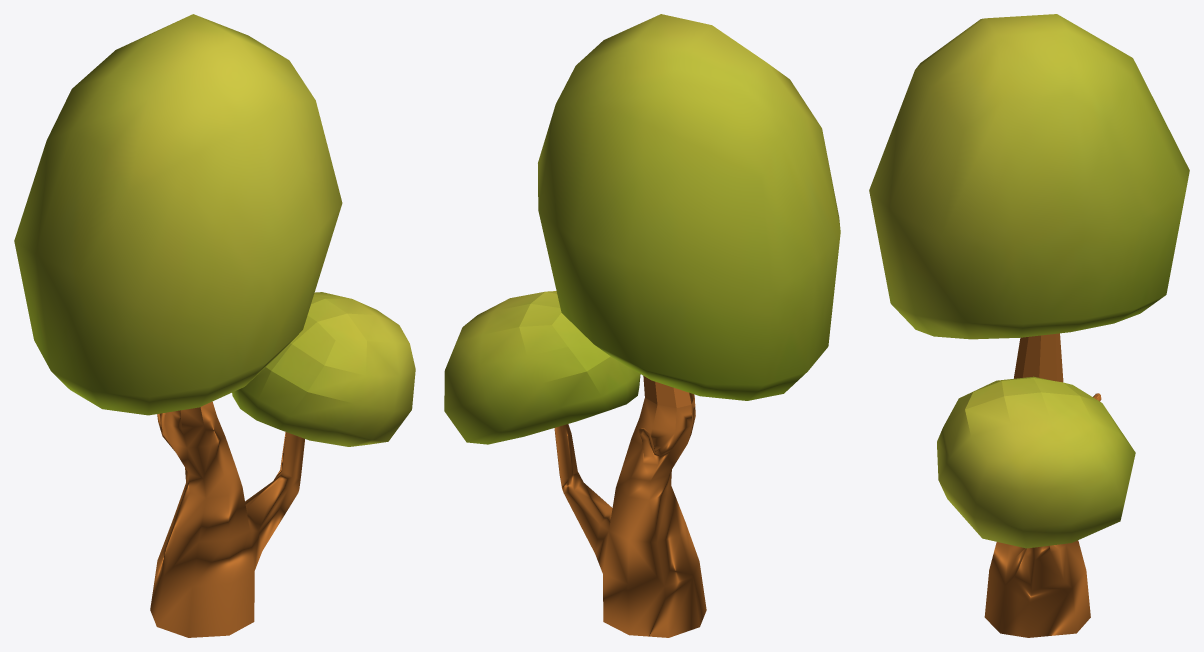
Rendered from SM_Tree_10.fbx.
3 views of the same model, side by side, from view 1: azimuth 30°, elevation 25°; view 2: azimuth 150°, elevation 25°; view 3: azimuth 270°, elevation 25° (orthographic).
Visible parts, largest first — view 1: SM_Tree_10; view 2: SM_Tree_10; view 3: SM_Tree_10.
Part boxes in pixels (x1,y1,x2,y2): SM_Tree_10: (14, 14, 415, 637); SM_Tree_10: (444, 14, 840, 637); SM_Tree_10: (869, 14, 1189, 637).
Bounding box in the file's own units: 754 × 1179 × 582.
